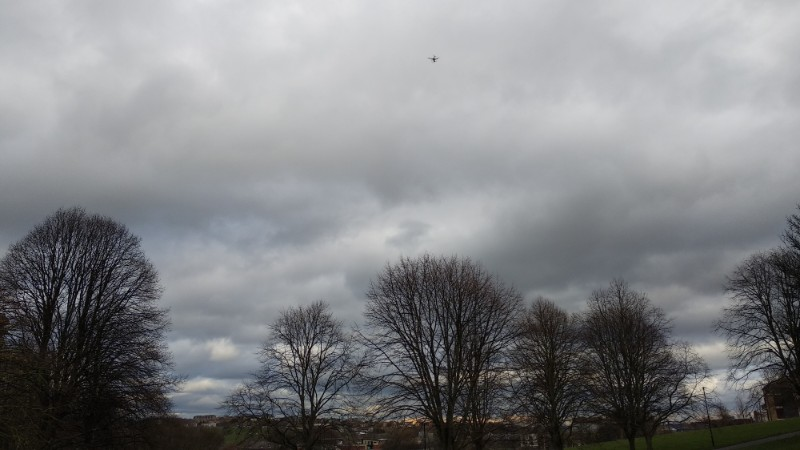drone: (427, 54, 439, 62)
